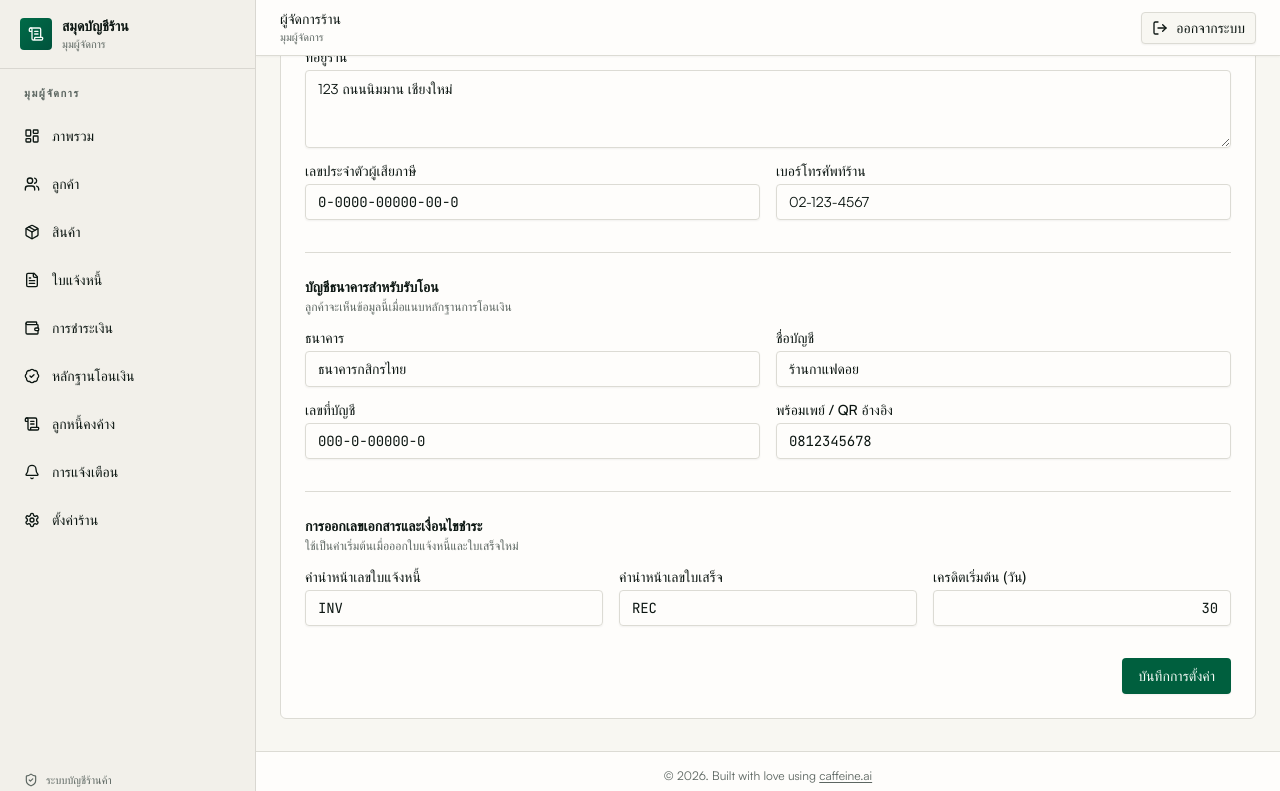
Test: SettingsPage › rejects a negative credit term before submitting
The width and height of the screenshot is (1280, 791).
(page scrolled)
Replace the text in the field labelled "เครดิตเริ่มต้น (วัน)" with "-5": (1082, 608) [933, 590, 1231, 626]
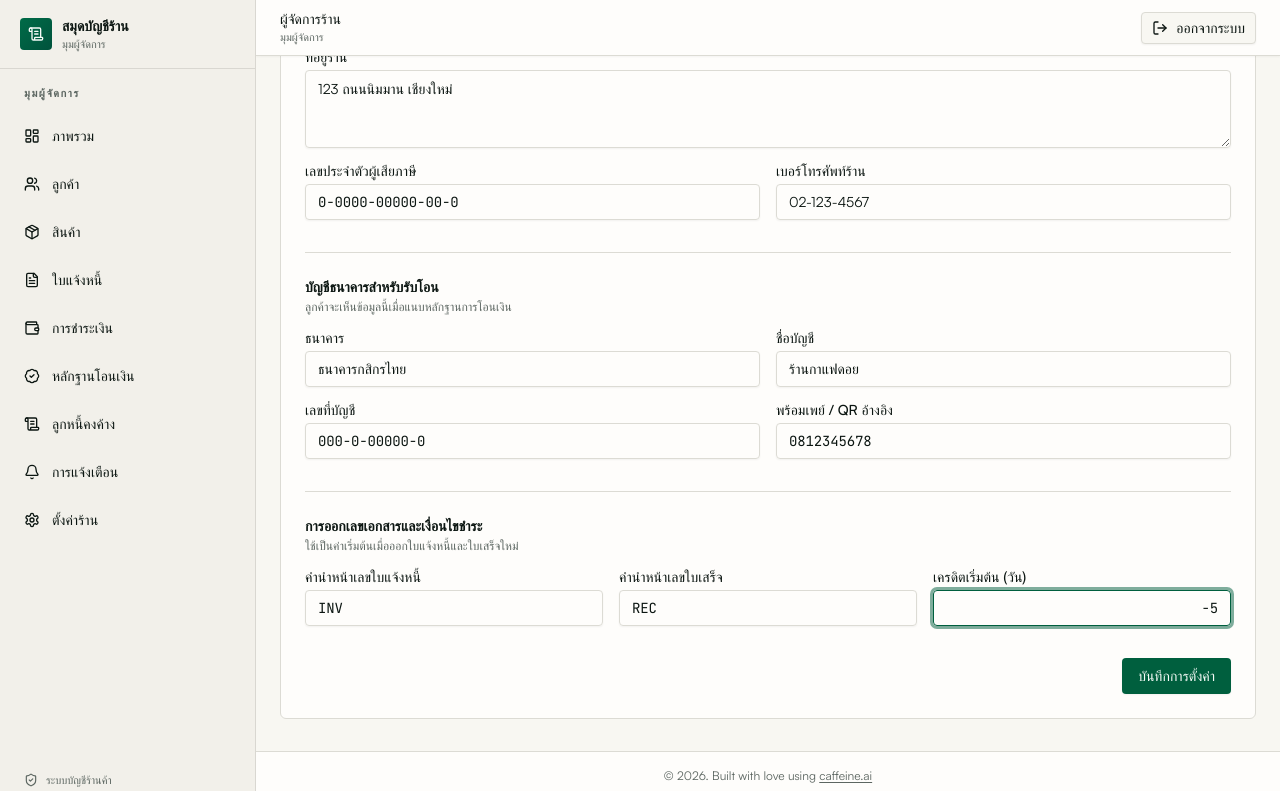
Click the button with test id "settings.submit_button": (1177, 676) [1122, 658, 1231, 694]
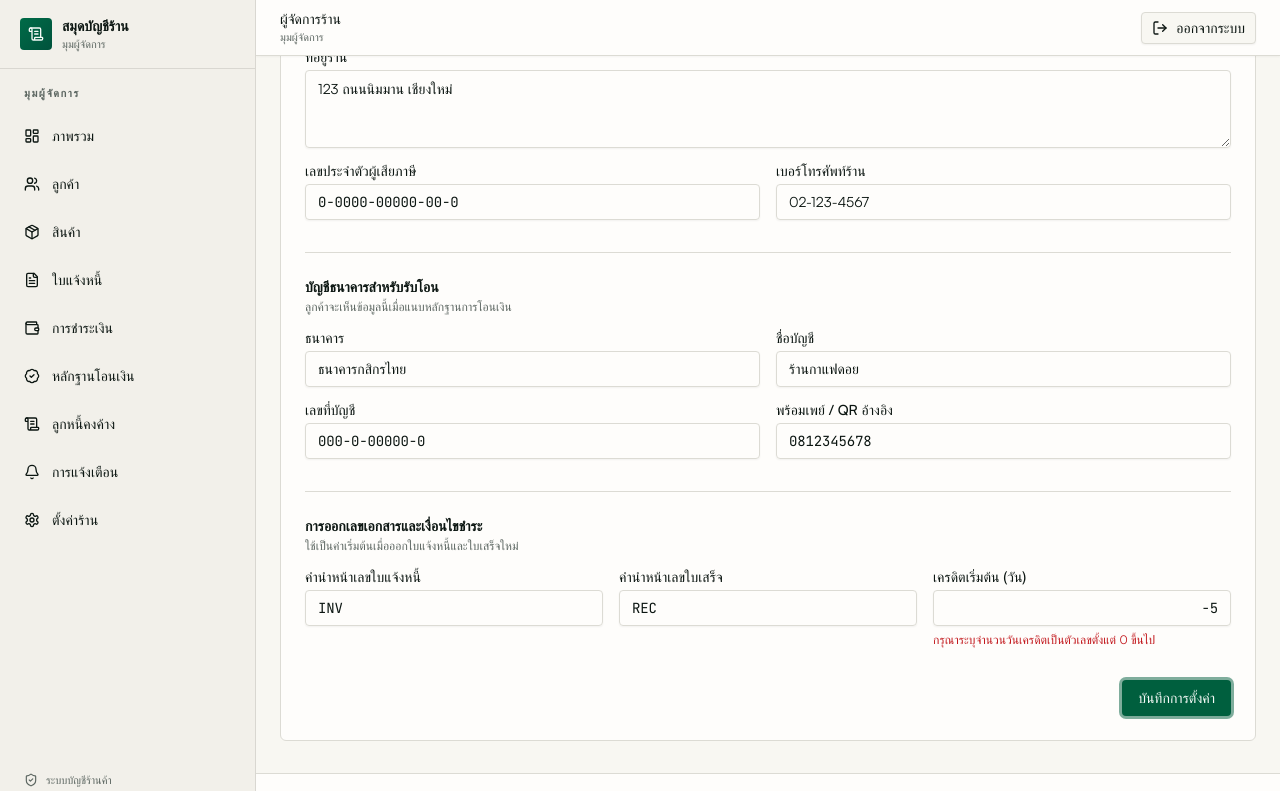
expect the text "กรุณาระบุจำนวนวันเครดิตเป็นตัวเลขตั้งแต่ 0 ขึ้นไป" is shown: met, box [933, 632, 1155, 647]
